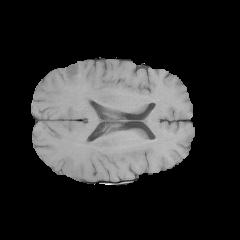glioma: (55, 61, 83, 85)
